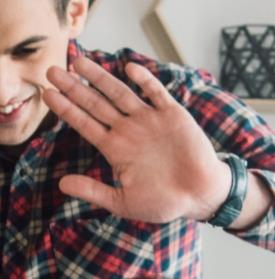down: (38, 49, 211, 228)
